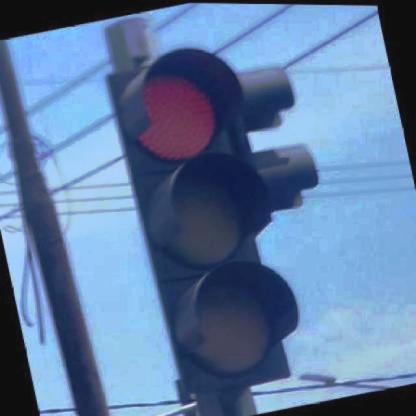Traffic Light -Red-: (104, 34, 313, 398)
